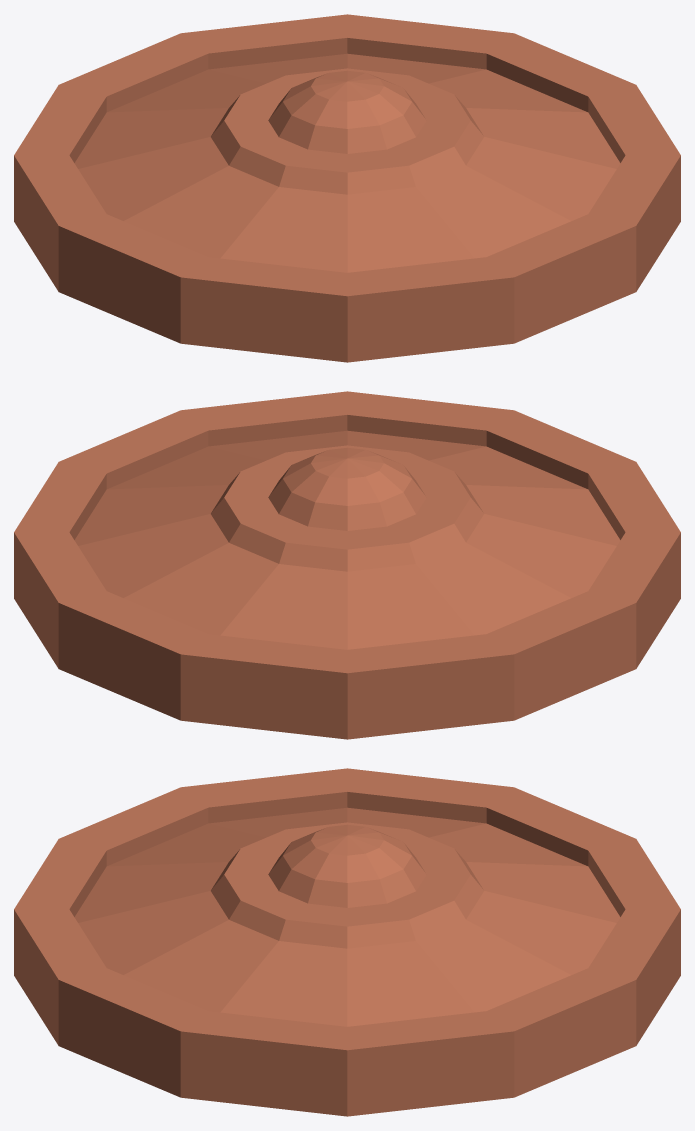
The model's file is shield.fbx.
The picture shows the model from 3 angles, top to bottom: view 1: azimuth 30°, elevation 25°; view 2: azimuth 150°, elevation 25°; view 3: azimuth 270°, elevation 25°; orthographic projection.
Visible parts, largest first — view 1: Cylinder; view 2: Cylinder; view 3: Cylinder.
Boxes of the visible parts, x1,y1,x2,y2 form: Cylinder: (14,14,680,362); Cylinder: (14,391,680,739); Cylinder: (14,768,680,1116).
Bounding box in the file's own units: 200 × 46.38 × 200.
